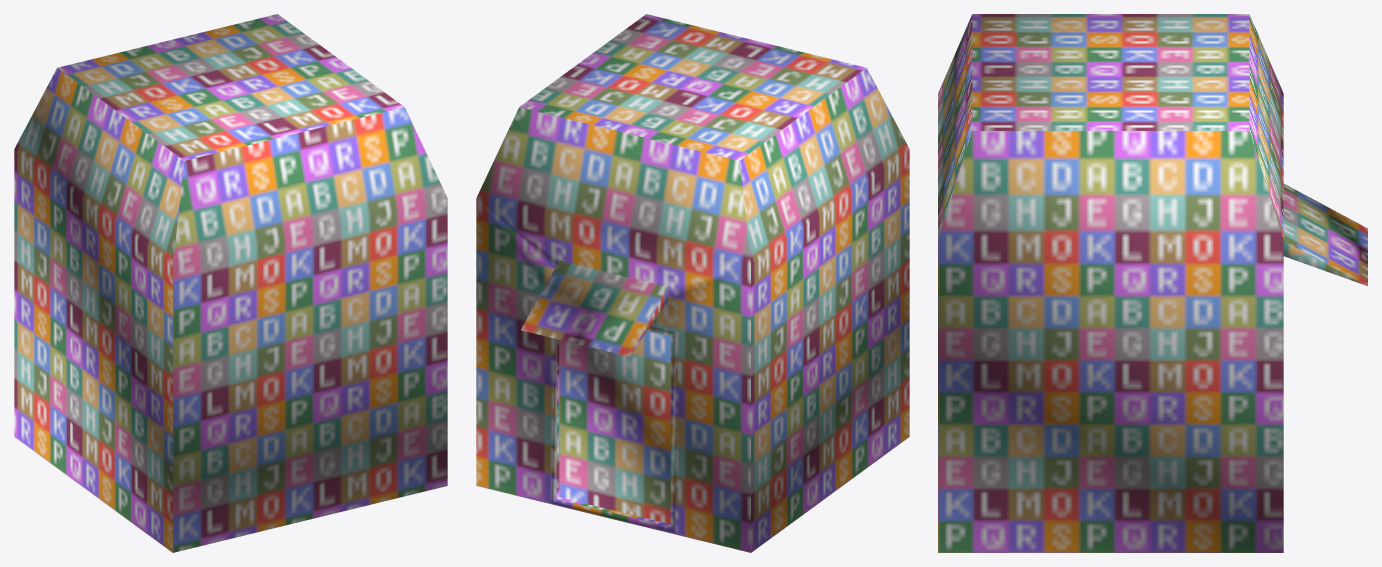
The model's file is building_19.obj.
3 views of the same model, side by side, from view 1: azimuth 30°, elevation 25°; view 2: azimuth 150°, elevation 25°; view 3: azimuth 270°, elevation 25° (orthographic). The views are drawn at different scales.
Visible parts, largest first — view 1: Cube3_copy11; view 2: Cube3_copy11; view 3: Cube3_copy11.
Boxes of the visible parts, x1,y1,x2,y2 form: Cube3_copy11: [14, 14, 447, 552]; Cube3_copy11: [476, 14, 909, 552]; Cube3_copy11: [938, 14, 1367, 552].
Bounding box in the file's own units: 274 × 356 × 341.
Materials: 1 (1 with a texture image).
